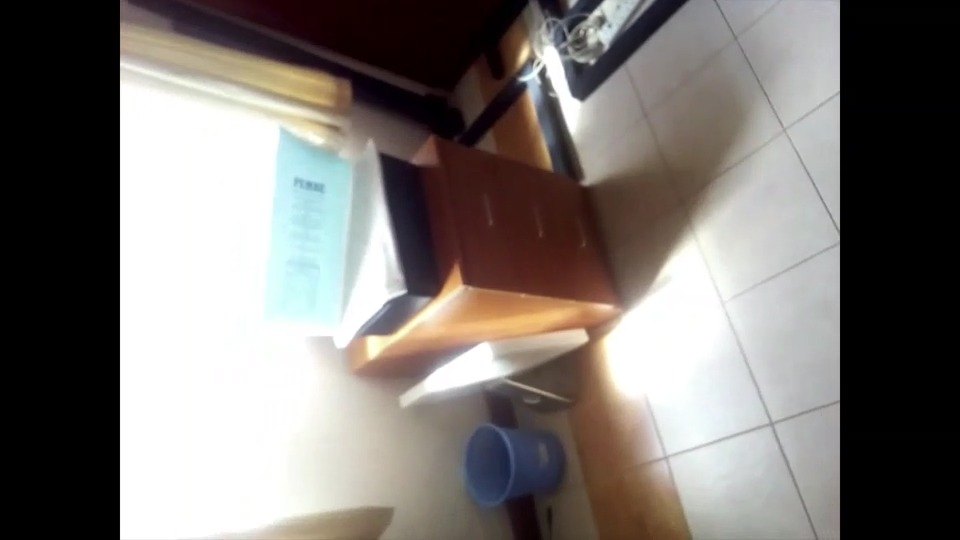wheat_flour_blue_label: (251, 126, 348, 331)
